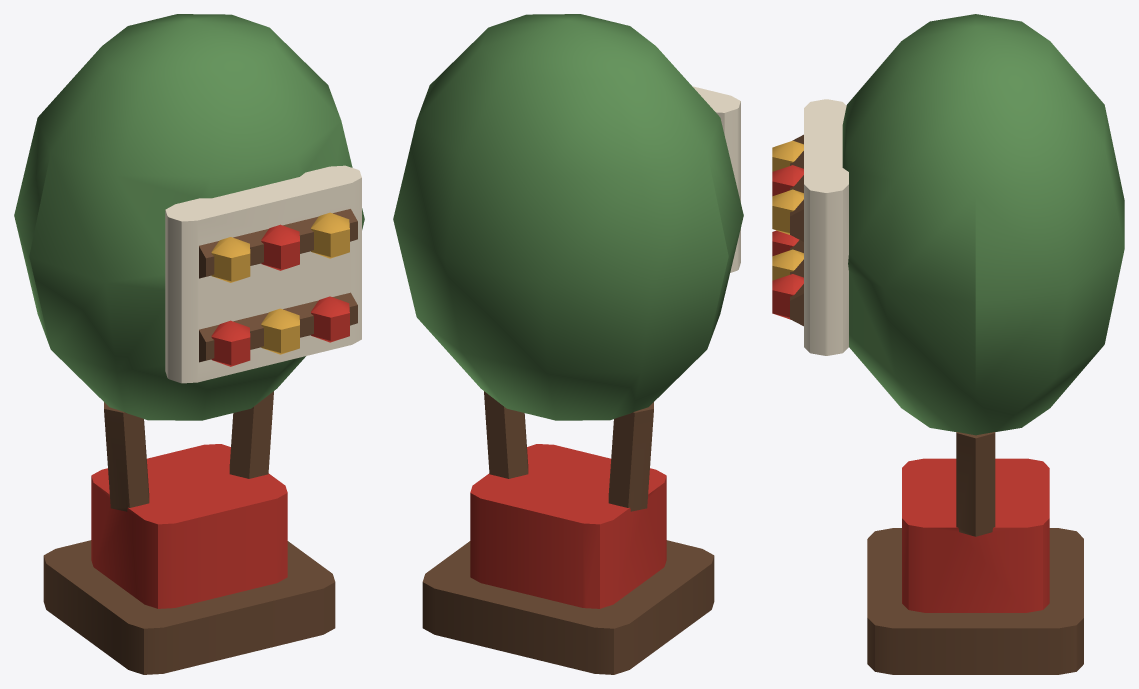
File: tethered-mini-balloon.glb
3 views of the same model, side by side, from view 1: azimuth 30°, elevation 25°; view 2: azimuth 150°, elevation 25°; view 3: azimuth 270°, elevation 25° (orthographic).
Visible parts, largest first — view 1: tethered-mini-balloon; view 2: tethered-mini-balloon; view 3: tethered-mini-balloon.
Boxes of the visible parts, <box> form: tethered-mini-balloon: <box>14,14,364,674</box>; tethered-mini-balloon: <box>393,14,743,674</box>; tethered-mini-balloon: <box>772,14,1124,674</box>.
Size of the model in its own units: 2.32 by 4.11 by 2.19.
2 materials, 2 textured.
